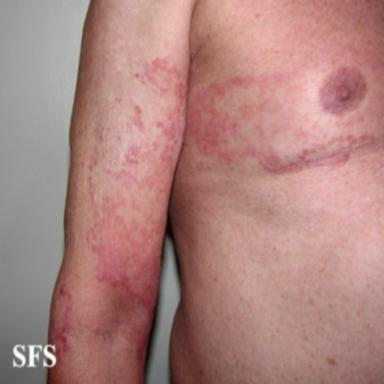Tinea-Corporis: (84, 56, 189, 369), (188, 67, 380, 176), (49, 282, 74, 358)
